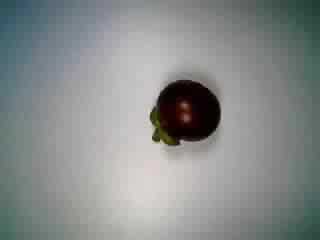mangosteen: (140, 74, 221, 151)
